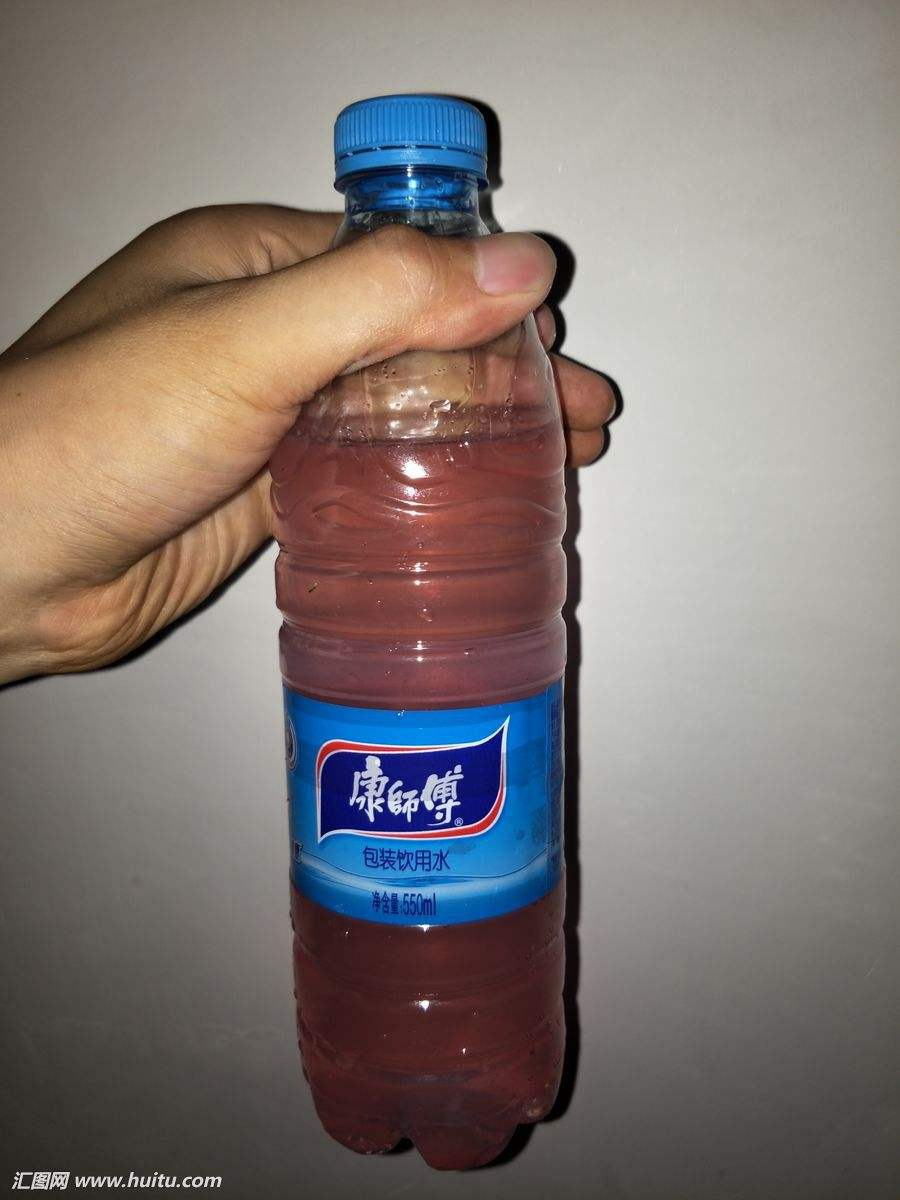amwater: (237, 68, 632, 1186)
